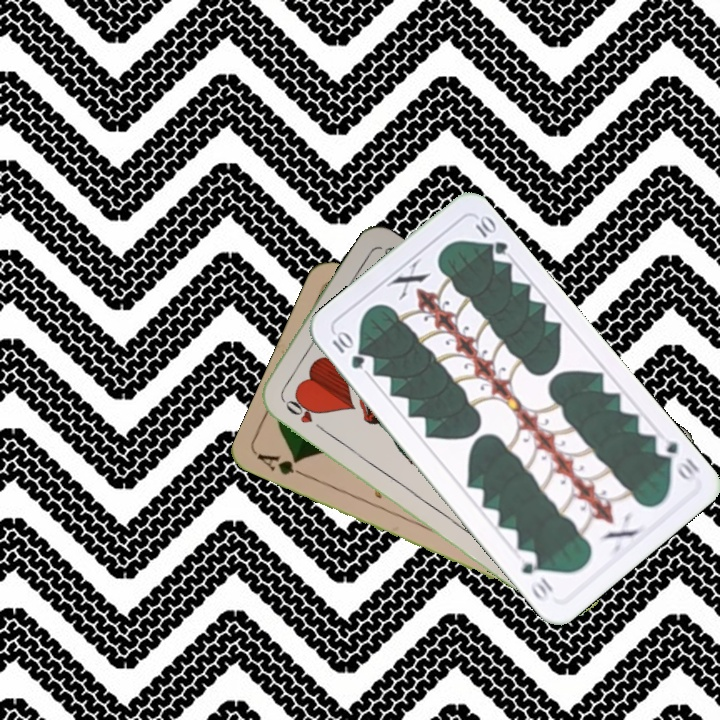G10: (650, 431, 702, 486), (327, 327, 368, 372)
GA: (253, 450, 310, 481)
HO: (278, 395, 329, 436)
